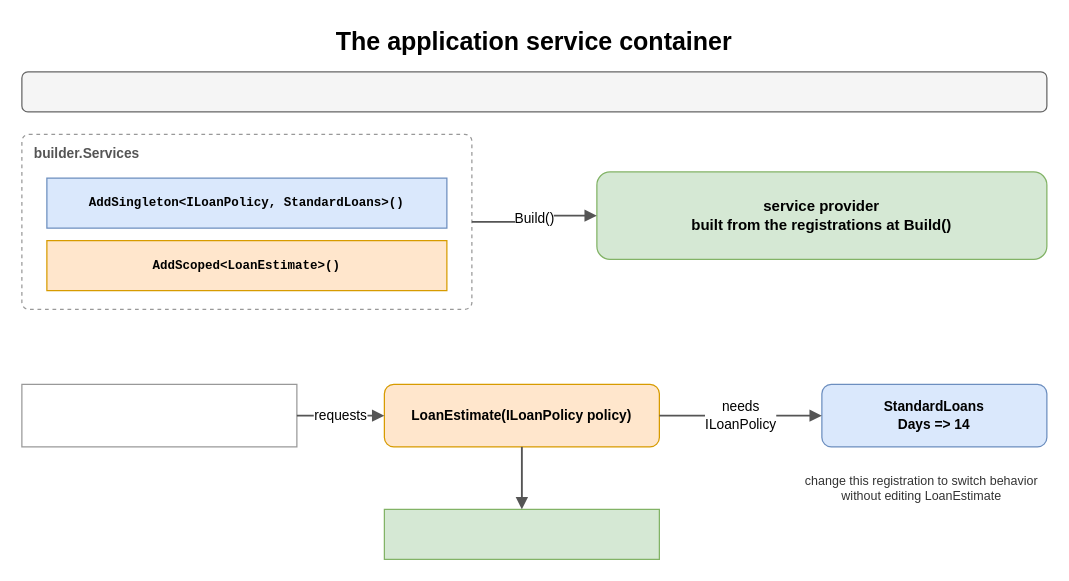
The diagram is 1069 pixels wide and 581 high, and some of its shapes have lost their labels. Each missing label, with the box of its shape:
estimate.Days → 14: (383, 508, 659, 559)
GET /loan-period (LoanEstimate estimate): (21, 383, 297, 447)
The provider constructs services, recursively resolving constructor arguments: (21, 71, 1047, 112)
